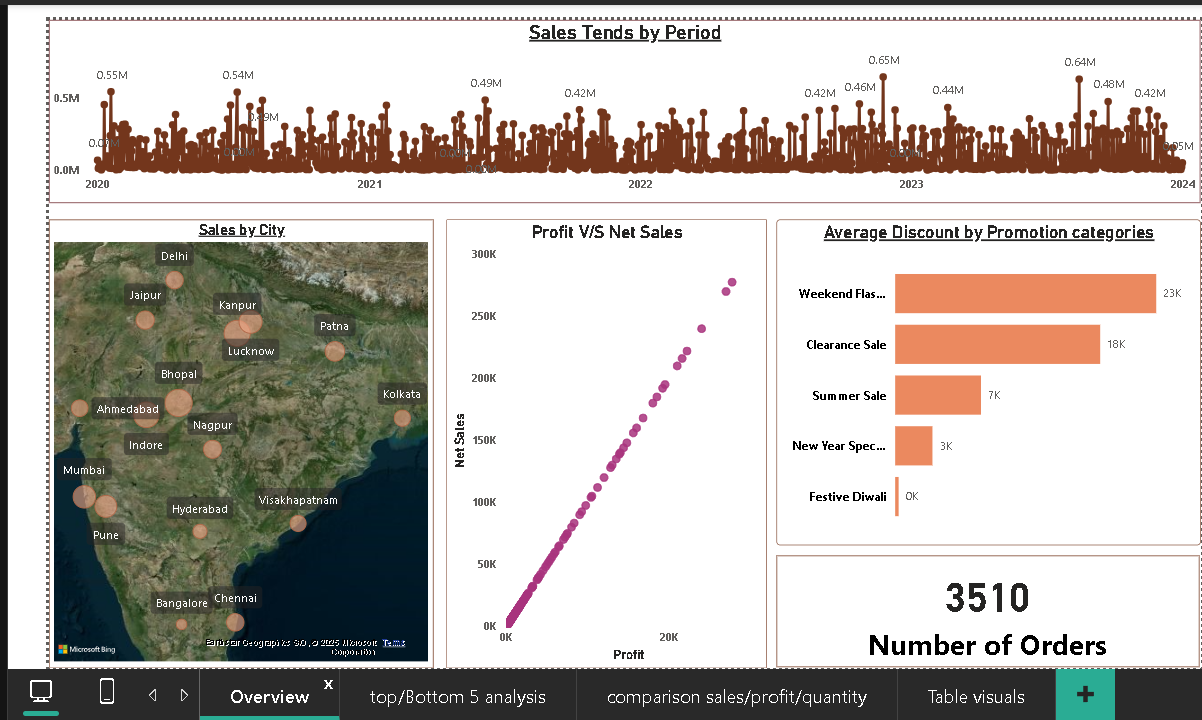

The page's visual inventory and layout, read from the dashboard file:
{"tool":"powerbi","page":{"name":"Overview","canvas":[1280,720],"ordinal":0},"visuals":[{"type":"lineChart","title":"Sales Tends by Period","fields":{"Category":["Fact Table.Date (dd/mm/yyyy).Variation.Date Hierarchy.Year"],"Y":["Sum(Fact Table.Net Sales)"]},"box":[0,0,1279.4,203.2],"z":0},{"type":"scatterChart","title":"Profit V/S Net Sales","fields":{"X":["Fact Table.Profit"],"Y":["Fact Table.Net Sales"]},"box":[440.9,221.2,356.1,498.5],"z":1000},{"type":"barChart","title":"Average Discount  by Promotion  categories","fields":{"Y":["Avg(Fact Table.Discount value)"],"Category":["Dim Promotion.Promotion Name"]},"box":[809.1,221.2,471.2,362.1],"z":2000},{"type":"map","title":"Sales by City","fields":{"Category":["Dim Customers.City"],"Size":["Sum(Fact Table.Net Sales)"]},"box":[0,221.2,427.3,498.5],"z":3000},{"type":"card","fields":{"Values":["Count(Fact Table.Order ID)"]},"box":[809.1,595.5,469.7,124.2],"z":4000}]}

Visuals, with their boxes on the page's 1280x720 design canvas (x1, y1, x2, y2). These are canvas units, not pixel positions in the 1202x720 screenshot, which may show the page scaled, cropped or inside an application window:
"Sales Tends by Period" lineChart: 0/0/1279/203
"Profit V/S Net Sales" scatterChart: 441/221/797/720
"Average Discount  by Promotion  categories" barChart: 809/221/1280/583
"Sales by City" map: 0/221/427/720
card - Count(Fact Table.Order ID): 809/596/1279/720
